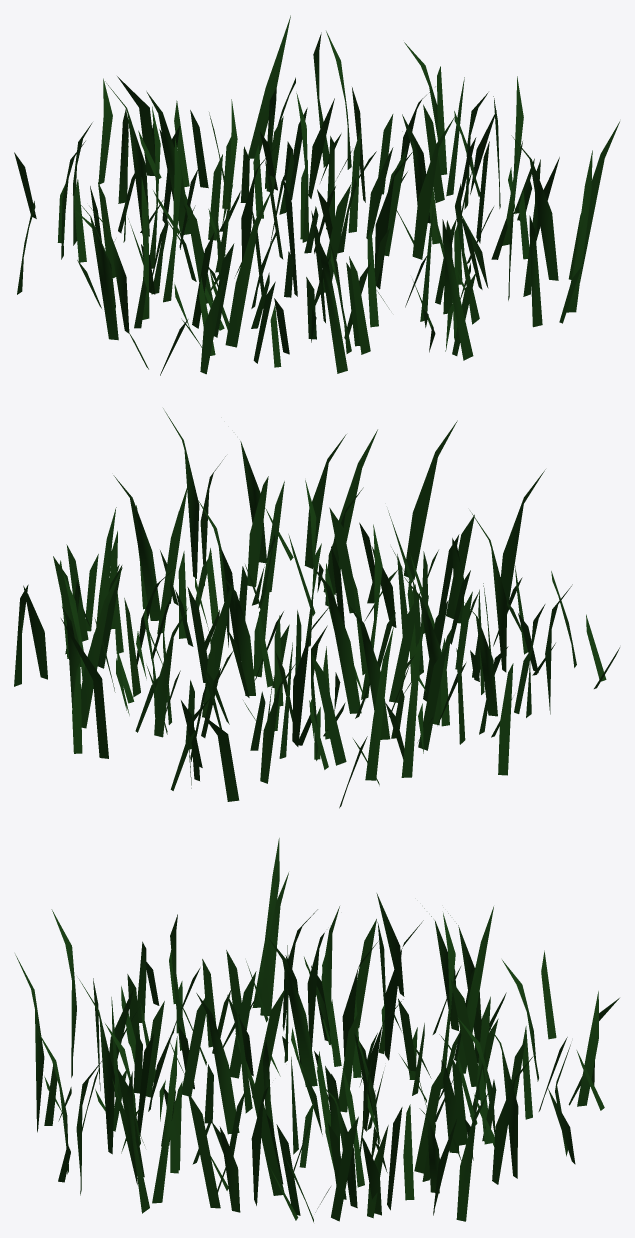
File: grass_1.obj
3 views of the same model, one above another, from view 1: azimuth 30°, elevation 25°; view 2: azimuth 150°, elevation 25°; view 3: azimuth 270°, elevation 25° (orthographic). The views are drawn at different scales.
Visible parts, largest first — view 1: GrassLOD1; view 2: GrassLOD1; view 3: GrassLOD1.
Part boxes in pixels (<box>): GrassLOD1: <box>14,15,619,375</box>; GrassLOD1: <box>14,408,619,808</box>; GrassLOD1: <box>15,838,619,1222</box>.
Size of the model in its own units: 0.7807 by 0.2494 by 0.8341.
